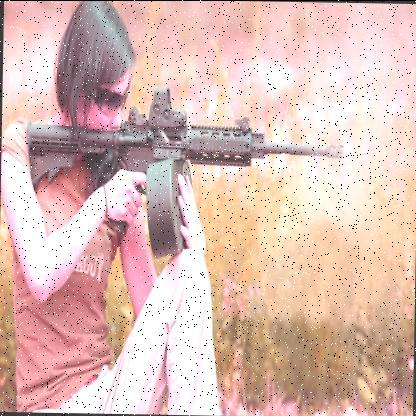rifle: (20, 81, 345, 260)
